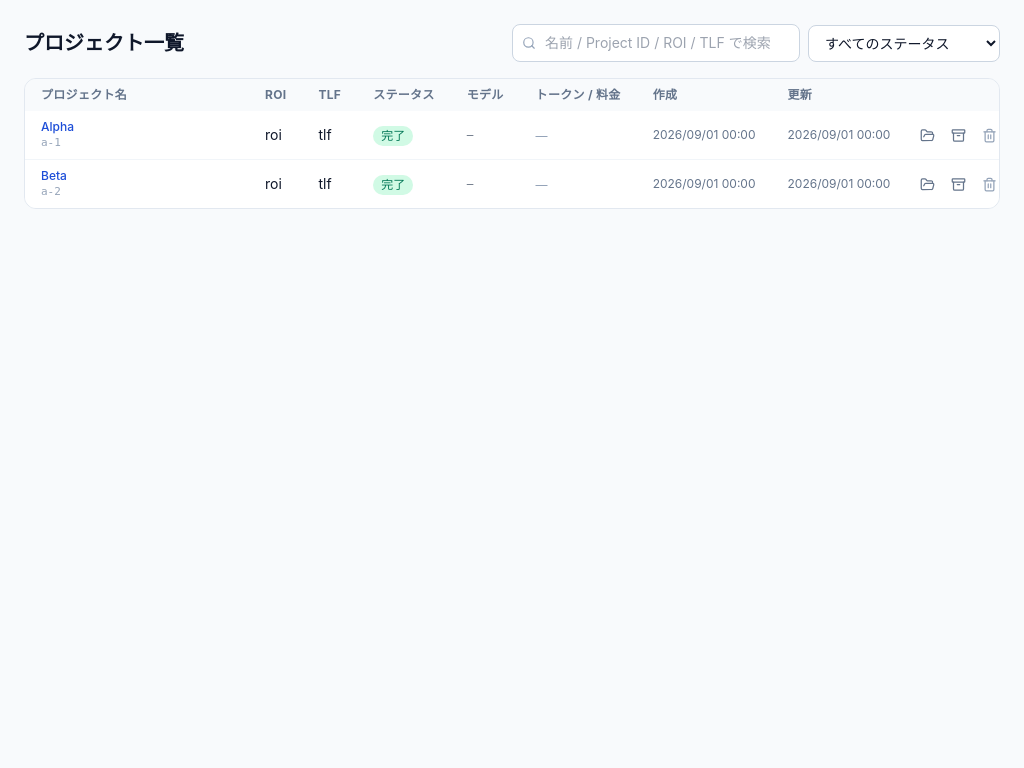
Test: ProjectsPage delete › puts the row back and reports the error when deletion fails
The width and height of the screenshot is (1024, 768).
Click the button with test id "delete-project": point(990, 135) [976,122,1003,148]
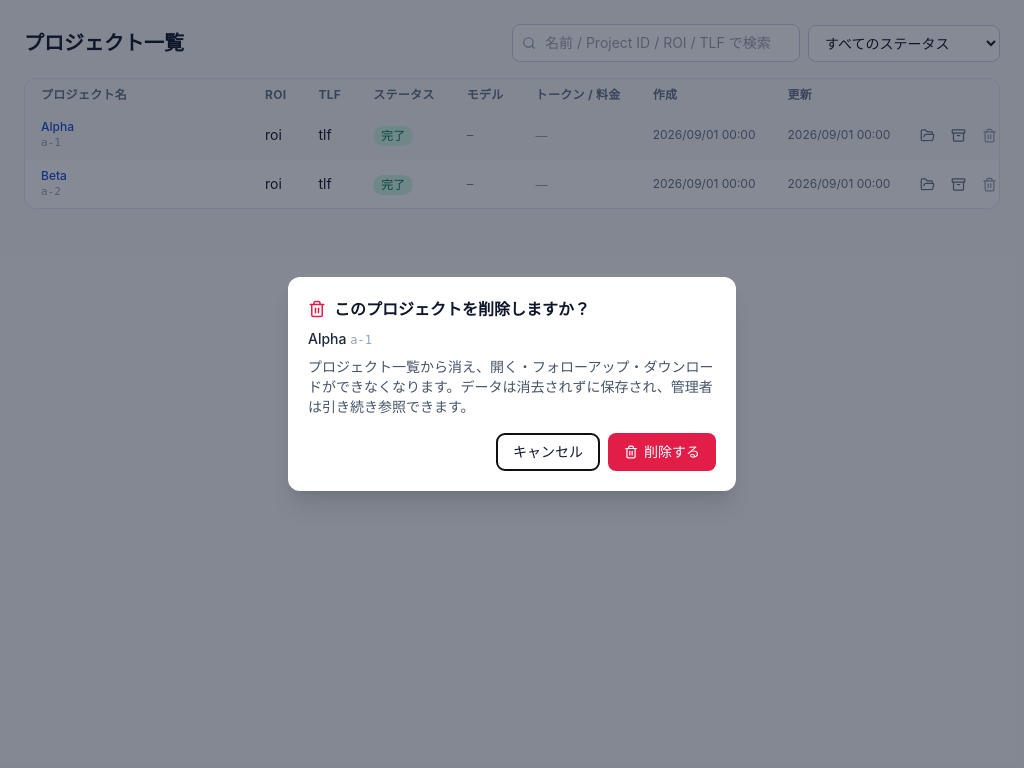
Click the button "削除する": point(662, 452) [608,433,716,471]
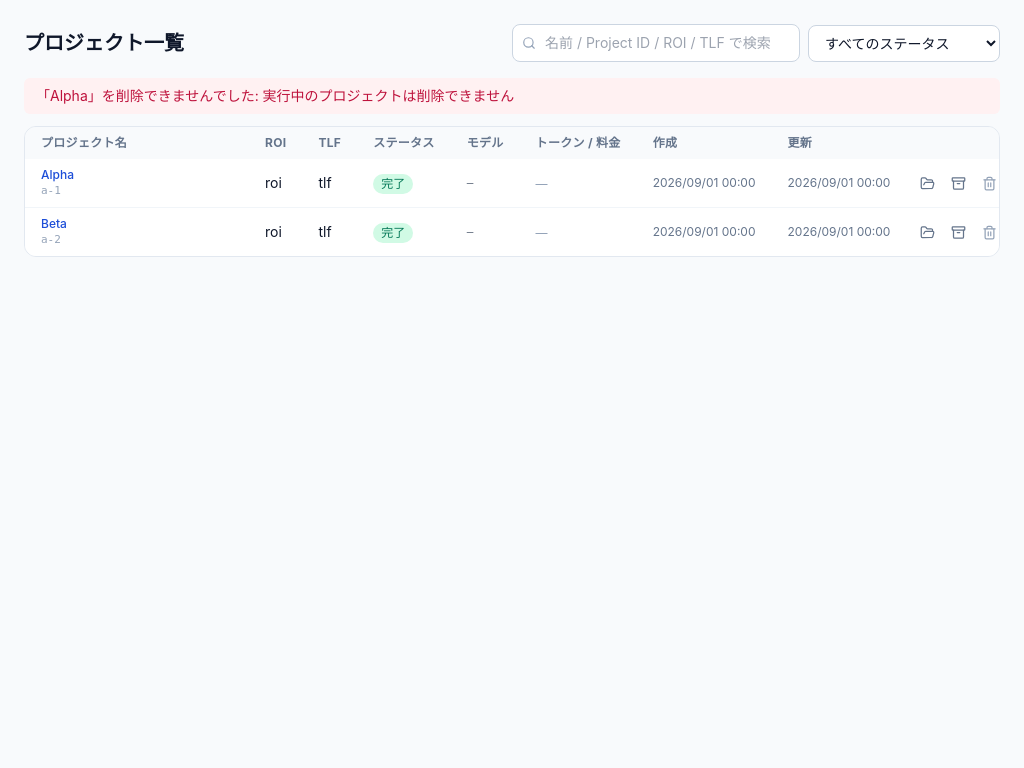
Now the text "「Alpha」を削除できませんでした: 実行中のプロジェクトは削除できません" is shown, box [24,78,1000,114]
